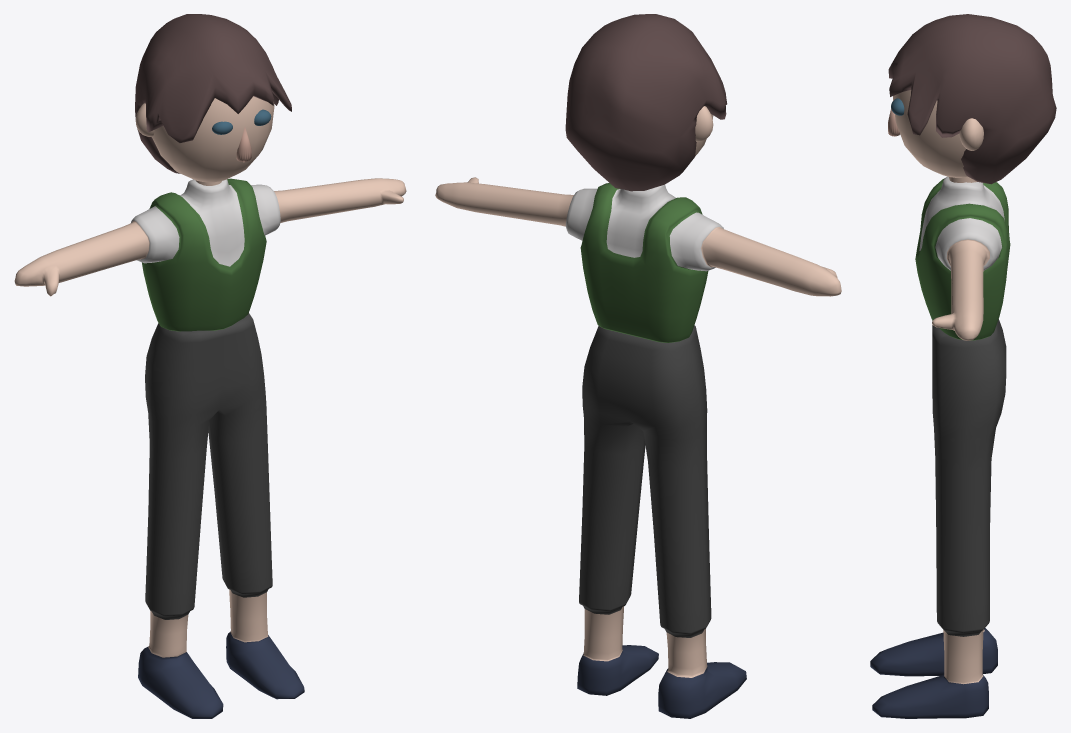
File: walking NPC.fbx
3 views of the same model, side by side, from view 1: azimuth 30°, elevation 25°; view 2: azimuth 150°, elevation 25°; view 3: azimuth 270°, elevation 25° (orthographic). The views are drawn at different scales.
Visible parts, largest first — view 1: pCube13, pCube12, polySurface38; view 2: pCube13, pCube12, polySurface38; view 3: pCube13, polySurface38, pCube12.
Boxes of the visible parts, <box> form: pCube13: <box>138,313,304,718</box>; pCube12: <box>14,178,406,331</box>; polySurface38: <box>135,14,291,185</box>; pCube13: <box>577,325,746,718</box>; pCube12: <box>435,177,841,342</box>; polySurface38: <box>565,14,727,191</box>; pCube13: <box>870,319,1006,718</box>; polySurface38: <box>888,14,1056,184</box>; pCube12: <box>915,176,1010,340</box>.
Bounding box in the file's own units: 25.38 × 40.62 × 10.19.
